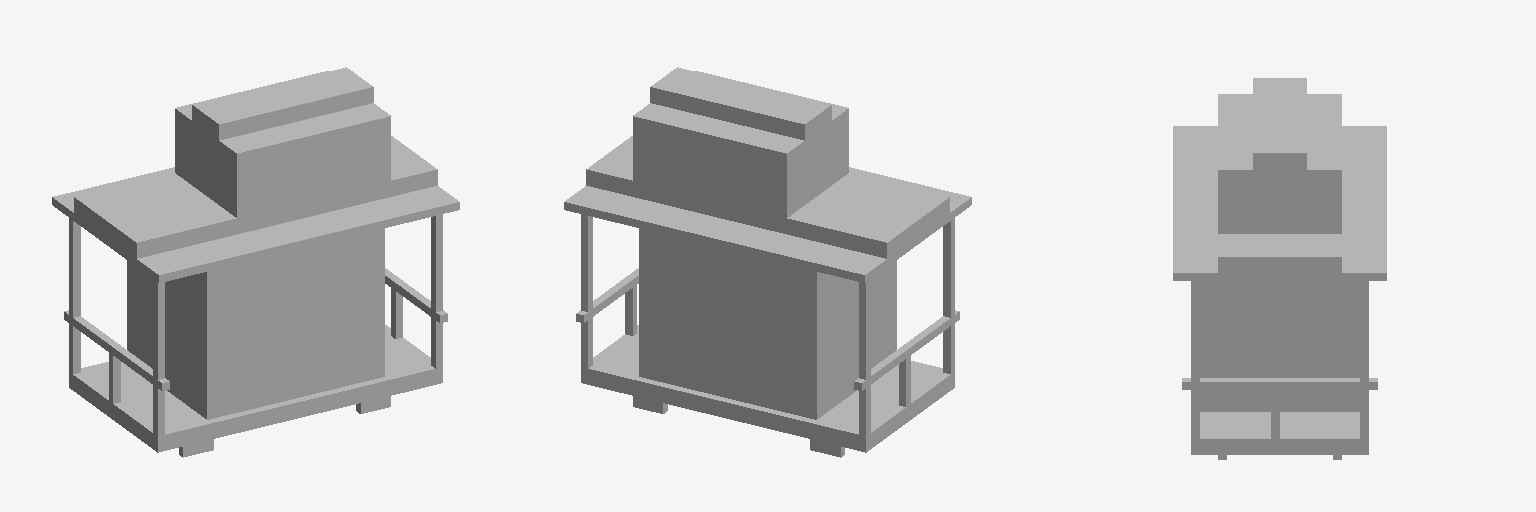
The model's file is ModelCaboose.obj.
The picture shows the model from 3 angles: view 1: azimuth 30°, elevation 25°; view 2: azimuth 150°, elevation 25°; view 3: azimuth 270°, elevation 25°; orthographic projection.
Visible parts, largest first — view 1: box11, box22, box, box12, box17, box23, box8, box24, box6, box16, box13, box15 (+6 smaller); view 2: box10, box22, box, box12, box17, box23, box8, box24, box6, box15, box14, box16 (+6 smaller); view 3: box9, box12, box22, box, box23, box24, box7, box10, box11, box13, box14.
Boxes of the visible parts, <box> form: box11: <box>203,228,384,419</box>; box22: <box>175,71,390,233</box>; box: <box>69,325,442,452</box>; box12: <box>52,167,459,282</box>; box17: <box>74,173,236,258</box>; box23: <box>192,67,373,140</box>; box8: <box>132,264,202,416</box>; box24: <box>391,136,437,196</box>; box6: <box>64,310,169,390</box>; box16: <box>153,279,164,379</box>; box13: <box>431,214,442,311</box>; box15: <box>69,218,80,317</box>; box10: <box>639,228,820,419</box>; box22: <box>633,71,848,233</box>; box: <box>581,325,954,452</box>; box12: <box>564,167,971,282</box>; box17: <box>787,173,949,258</box>; box23: <box>650,67,831,140</box>; box8: <box>821,264,891,416</box>; box24: <box>586,136,632,196</box>; box6: <box>854,310,959,390</box>; box15: <box>859,279,870,379</box>; box14: <box>581,214,592,311</box>; box16: <box>943,218,954,317</box>; box9: <box>1209,281,1350,411</box>; box12: <box>1173,126,1386,280</box>; box22: <box>1218,94,1341,233</box>; box: <box>1191,412,1368,454</box>; box23: <box>1253,78,1306,169</box>; box24: <box>1218,234,1341,272</box>; box7: <box>1182,378,1377,389</box>; box10: <box>1351,281,1359,411</box>; box11: <box>1200,281,1208,411</box>; box13: <box>1191,281,1199,381</box>; box14: <box>1360,281,1368,381</box>.
Bounding box in the file's own units: 2.44 × 2.38 × 1.5.